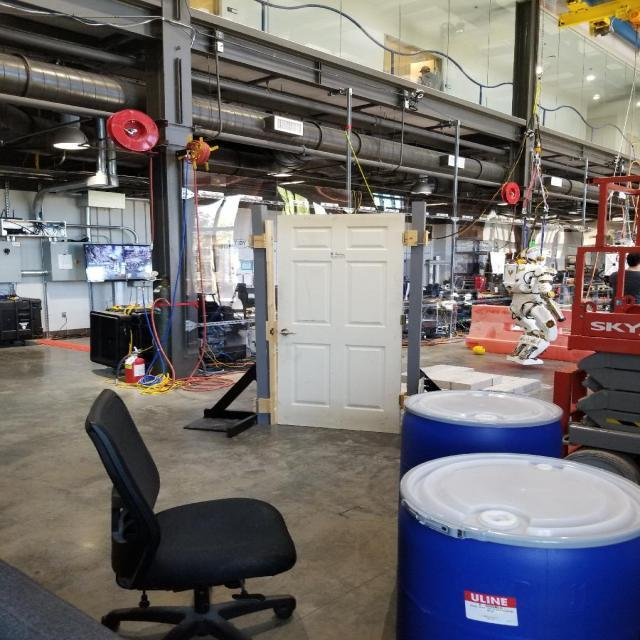door: (273, 213, 403, 437), (276, 328, 298, 338)
